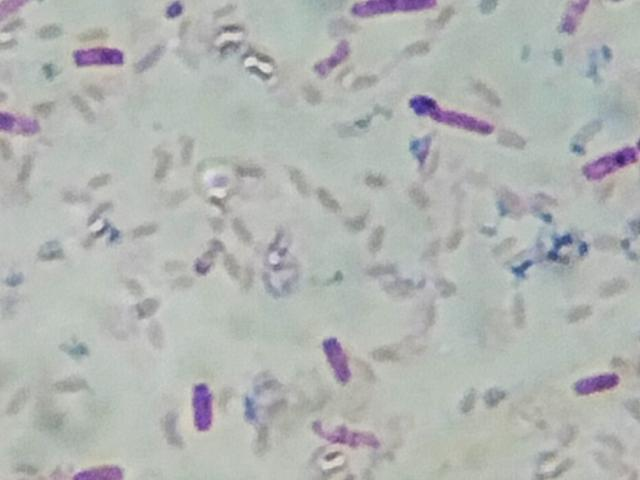E. coli: (408, 92, 493, 134), (308, 410, 391, 453), (333, 0, 459, 20), (585, 139, 634, 187), (71, 36, 129, 74), (322, 330, 357, 389), (309, 37, 365, 72), (575, 365, 625, 403), (0, 90, 41, 135), (191, 376, 217, 427), (71, 459, 134, 480), (553, 0, 586, 39)
